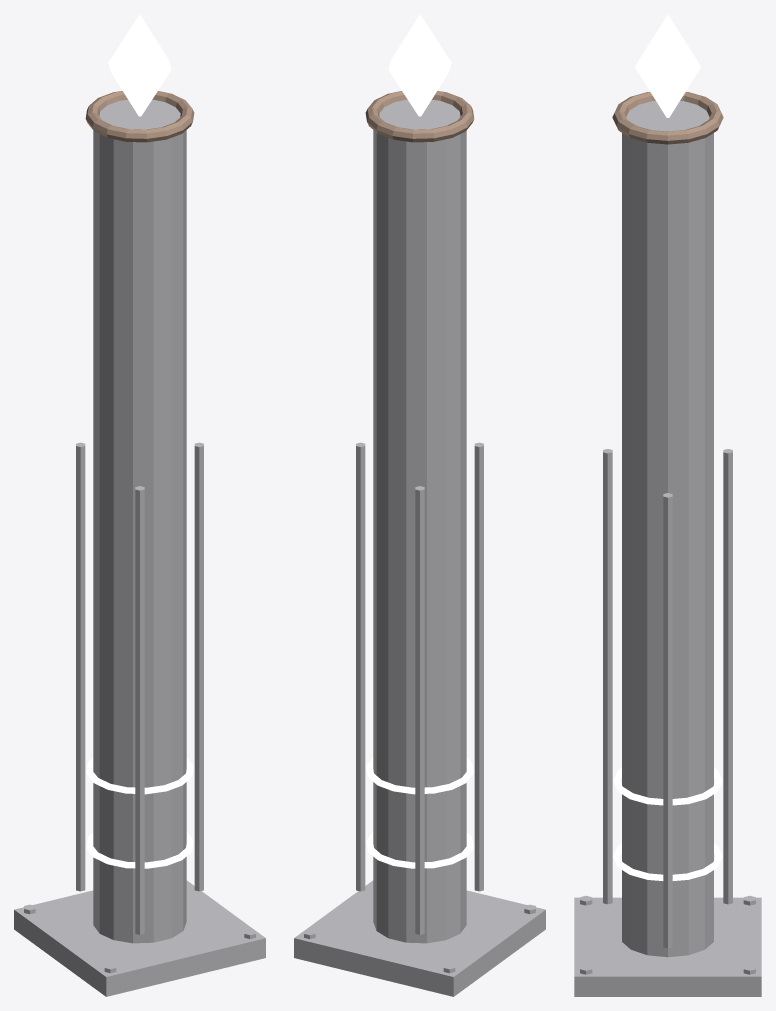
Rendered from flare_stack_rare.glb.
3 renders of one model, left to right at view 1: azimuth 30°, elevation 25°; view 2: azimuth 150°, elevation 25°; view 3: azimuth 270°, elevation 25°, orthographic.
Visible parts, largest first — view 1: flare_stack, flame; view 2: flare_stack, flame; view 3: flare_stack, flame.
Part boxes in pixels (x1=…): flare_stack: x1=14, y1=91, x2=265, y2=996; flame: x1=108, y1=14, x2=171, y2=116; flare_stack: x1=294, y1=91, x2=545, y2=996; flame: x1=388, y1=14, x2=451, y2=116; flare_stack: x1=574, y1=92, x2=761, y2=996; flame: x1=635, y1=14, x2=700, y2=117.
Size of the model in its own units: 1.34 by 7.48 by 1.34.
